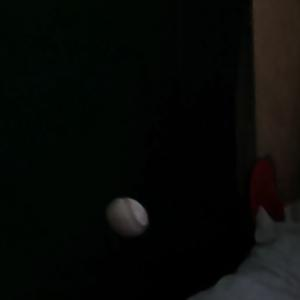ball: (104, 196, 150, 242)
